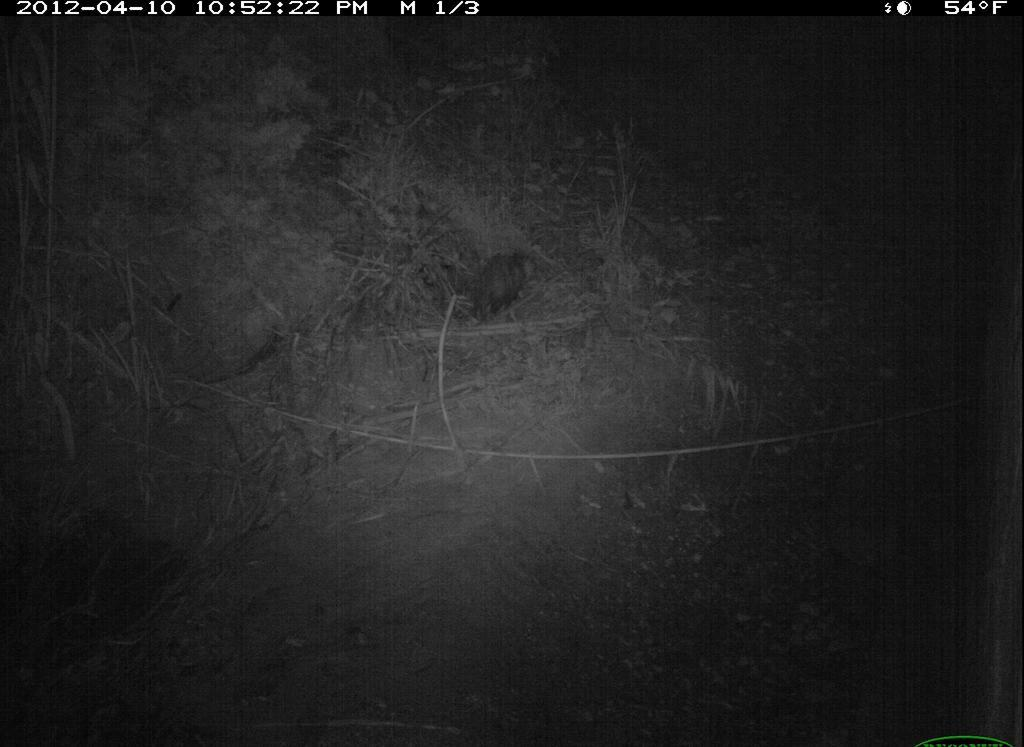opossum: (463, 244, 545, 331)
